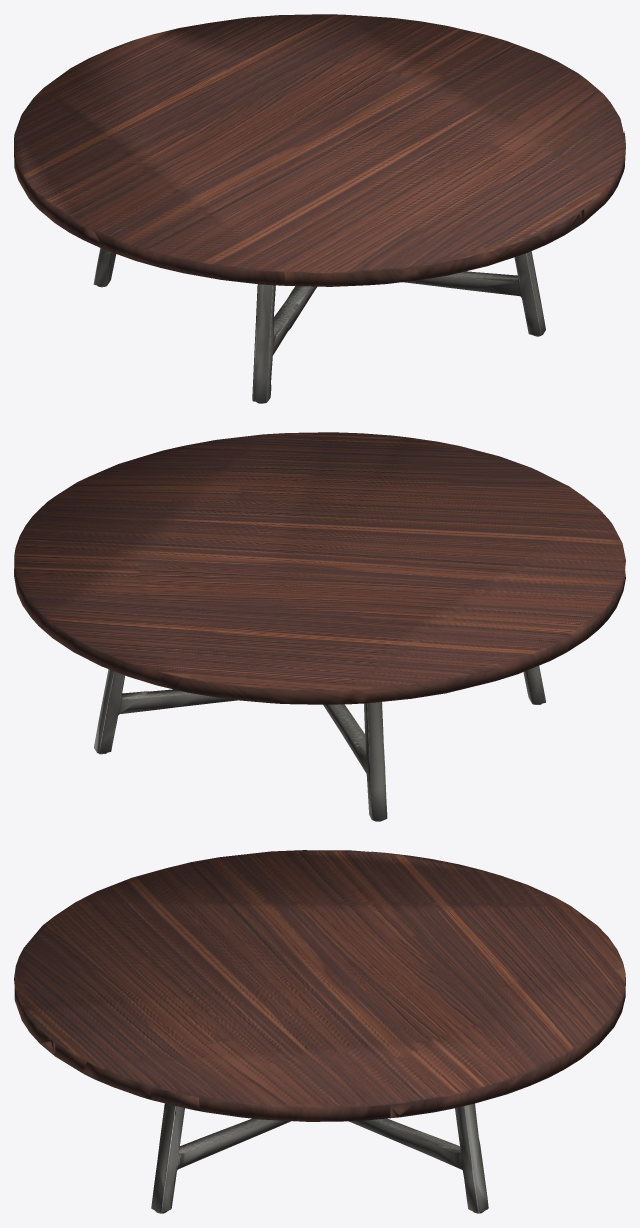
File: table-round-walnut.glb
The picture shows the model from 3 angles, top to bottom: view 1: azimuth 30°, elevation 25°; view 2: azimuth 150°, elevation 25°; view 3: azimuth 270°, elevation 25°; orthographic projection.
Parts seen in each view (by area): view 1: Mesh_0; view 2: Mesh_0; view 3: Mesh_0.
Boxes of the visible parts, box(x1,y1,x2,y2) form: Mesh_0: box(14, 14, 625, 403); Mesh_0: box(14, 432, 625, 821); Mesh_0: box(14, 850, 625, 1213).
Bounding box in the file's own units: 2.67 × 0.8 × 2.67.
1 material, 1 textured.
